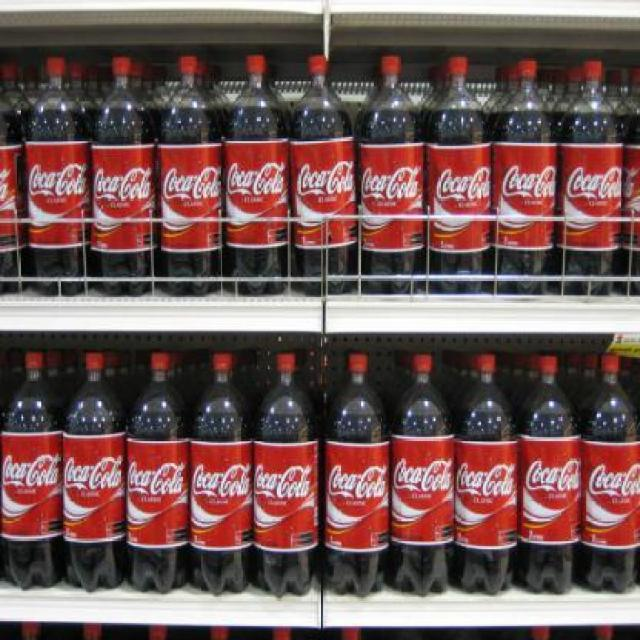Drinks: (89, 56, 158, 298), (324, 352, 392, 597), (252, 354, 320, 598), (290, 54, 358, 296), (358, 54, 426, 294), (492, 58, 560, 294), (390, 353, 456, 596), (157, 55, 223, 296), (224, 55, 290, 296), (426, 56, 492, 295), (126, 352, 191, 594), (560, 59, 625, 296), (190, 353, 253, 596), (62, 353, 126, 592), (456, 354, 518, 596), (0, 352, 63, 590), (26, 56, 88, 296), (518, 356, 580, 594), (580, 354, 638, 594)
